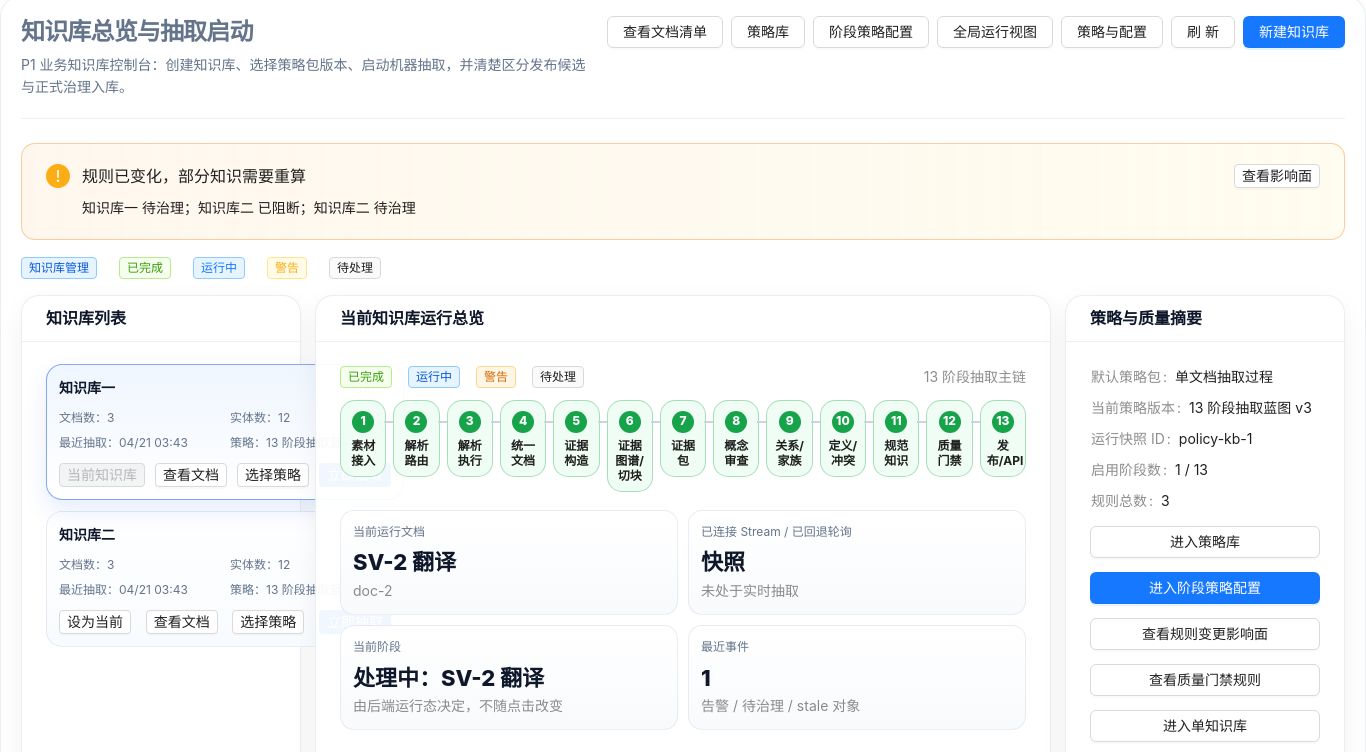
Test case: falls back to snapshot polling when runtime stream fails before first payload
Click the button "进入单知识库" at (1205, 726), box [1090, 710, 1320, 742]
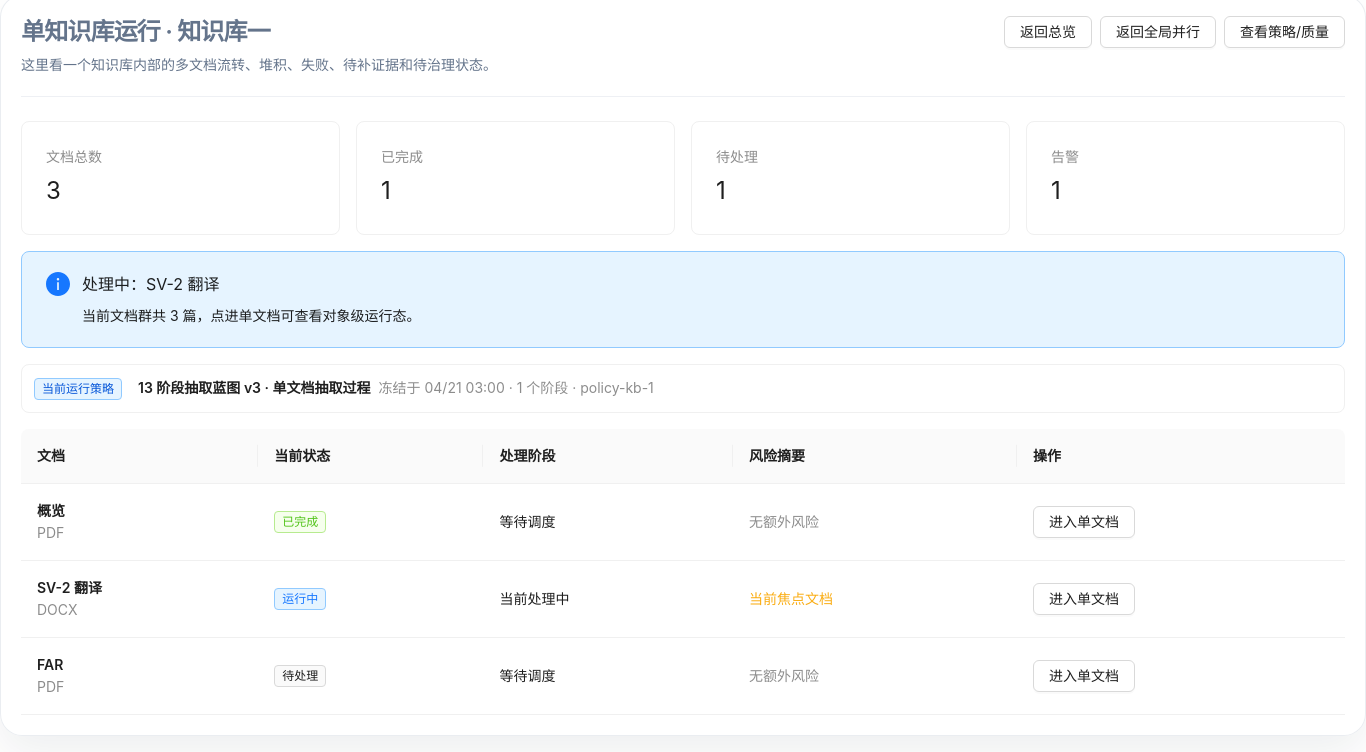
Click the button "进入单文档" in the row of "概览" at (1084, 522), box [1033, 506, 1135, 538]
(page scrolled)
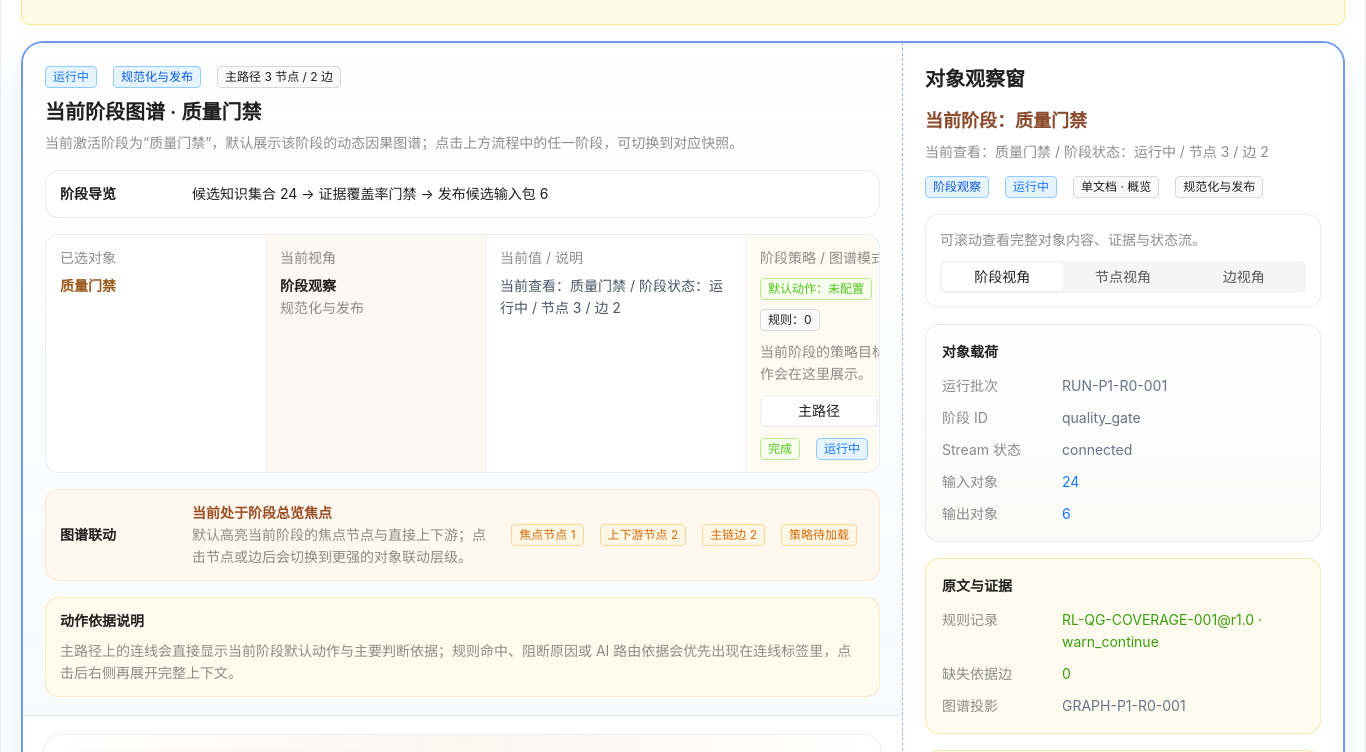
Check: the element with test id "document-graph-control-panel" is shown, box [23, 43, 902, 716]
